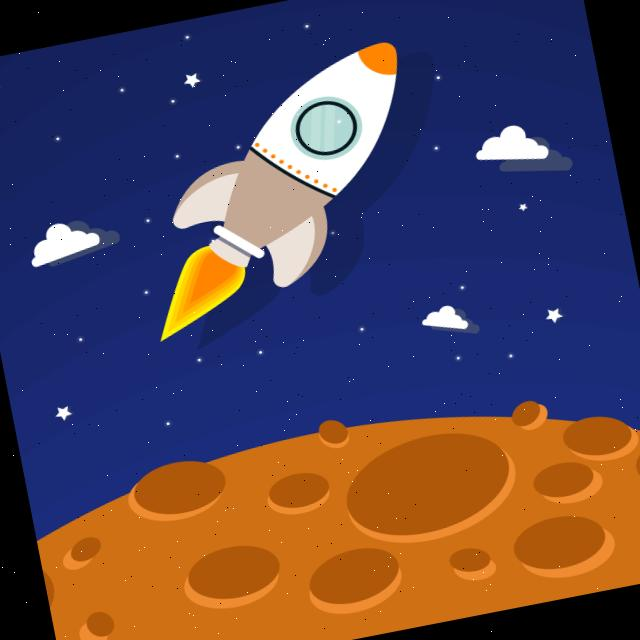rocket: (140, 25, 450, 314)
